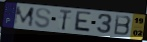3: (96, 13, 114, 35)
B: (113, 14, 133, 37)
E: (72, 10, 93, 34)
M: (13, 6, 36, 28)
S: (33, 7, 53, 29)
T: (58, 9, 73, 32)
